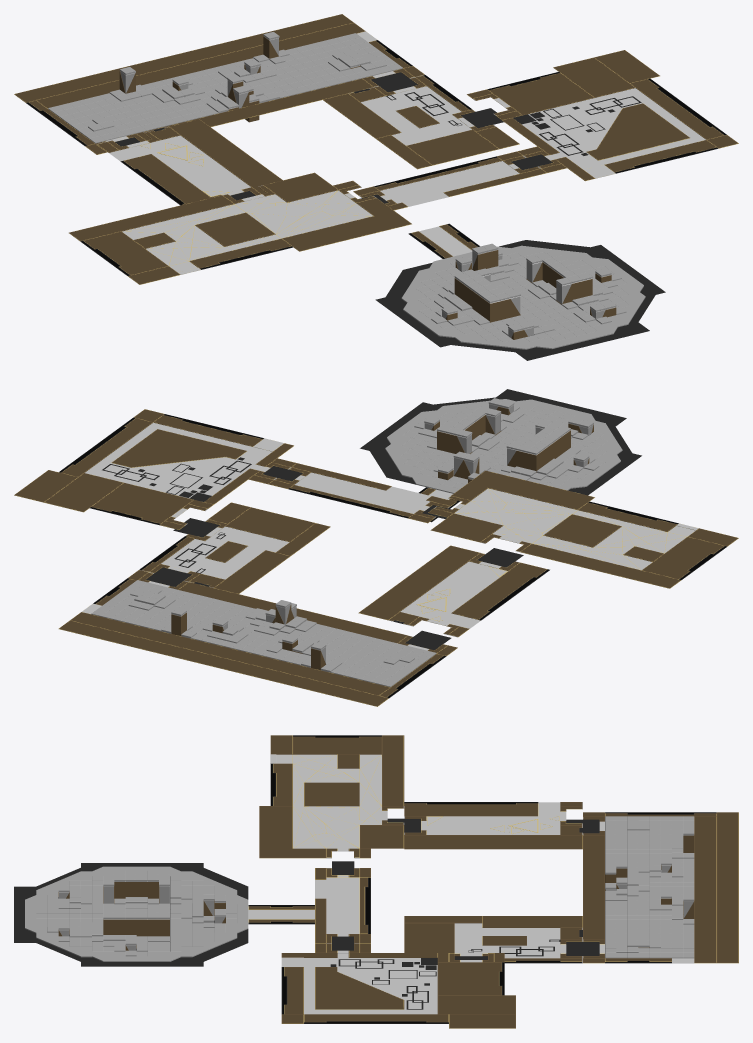
The model's file is A_level_floors_.fbx.
3 renders of one model, top to bottom at view 1: azimuth 30°, elevation 25°; view 2: azimuth 150°, elevation 25°; view 3: azimuth 270°, elevation 25°, orthographic. The views are drawn at different scales.
Parts seen in each view (by area): view 1: A_zone_03_dancefloor_plastic_, A_zone_01_dancefloor_plastic_, A_zone_02_far_left_zone_wood_01_, A_zone_02_far_right_zone_floor_wood_01_, A_zone_01_dancefloor_wood_01_, A_zone_02_far_right_zone_floor_white_marble_, A_zone_02_far_left_zone_white_marble_, A_zone_02_left_zone_wood_01_, A_zone_03_dancefloor_black_marble_, A_zone_02_right_zone_wood_01_, A_zone_02_right_zone_white_marble_, A_zone_02_left_zone_white_marble_ (+15 smaller); view 2: A_zone_03_dancefloor_plastic_, A_zone_01_dancefloor_plastic_, A_zone_02_far_left_zone_wood_01_, A_zone_01_dancefloor_wood_01_, A_zone_02_far_right_zone_floor_wood_01_, A_zone_02_far_right_zone_floor_white_marble_, A_zone_02_far_left_zone_white_marble_, A_zone_02_left_zone_wood_01_, A_zone_02_right_zone_wood_01_, A_zone_03_dancefloor_black_marble_, A_zone_02_right_zone_white_marble_, A_zone_02_left_zone_white_marble_ (+17 smaller); view 3: A_zone_03_dancefloor_plastic_, A_zone_01_dancefloor_plastic_, A_zone_02_far_left_zone_wood_01_, A_zone_01_dancefloor_wood_01_, A_zone_02_far_right_zone_floor_wood_01_, A_zone_02_far_right_zone_floor_white_marble_, A_zone_02_far_left_zone_white_marble_, A_zone_02_right_zone_wood_01_, A_zone_03_dancefloor_black_marble_, A_zone_02_left_zone_wood_01_, A_zone_02_right_zone_white_marble_, A_zone_02_left_zone_white_marble_ (+15 smaller).
Boxes of the visible parts, x1,y1,x2,y2 form: A_zone_03_dancefloor_plastic_: [401, 243, 645, 349]; A_zone_01_dancefloor_plastic_: [48, 32, 402, 143]; A_zone_02_far_left_zone_wood_01_: [468, 50, 737, 180]; A_zone_02_far_right_zone_floor_wood_01_: [69, 173, 410, 284]; A_zone_01_dancefloor_wood_01_: [15, 14, 423, 154]; A_zone_02_far_right_zone_floor_white_marble_: [122, 190, 372, 274]; A_zone_02_far_left_zone_white_marble_: [494, 88, 705, 178]; A_zone_02_left_zone_wood_01_: [323, 76, 518, 168]; A_zone_03_dancefloor_black_marble_: [375, 223, 665, 360]; A_zone_02_right_zone_wood_01_: [98, 119, 282, 204]; A_zone_02_right_zone_white_marble_: [109, 135, 250, 196]; A_zone_02_left_zone_white_marble_: [361, 86, 474, 145]; A_zone_03_dancefloor_plastic_: [385, 398, 622, 493]; A_zone_01_dancefloor_plastic_: [91, 580, 436, 687]; A_zone_02_far_left_zone_wood_01_: [15, 409, 295, 529]; A_zone_01_dancefloor_wood_01_: [59, 570, 456, 706]; A_zone_02_far_right_zone_floor_wood_01_: [429, 471, 737, 587]; A_zone_02_far_right_zone_floor_white_marble_: [454, 488, 698, 570]; A_zone_02_far_left_zone_white_marble_: [85, 422, 283, 517]; A_zone_02_left_zone_wood_01_: [143, 503, 329, 593]; A_zone_02_right_zone_wood_01_: [359, 546, 546, 636]; A_zone_03_dancefloor_black_marble_: [360, 389, 641, 522]; A_zone_02_right_zone_white_marble_: [400, 561, 508, 628]; A_zone_02_left_zone_white_marble_: [161, 526, 289, 579]; A_zone_03_dancefloor_plastic_: [25, 866, 248, 961]; A_zone_01_dancefloor_plastic_: [605, 816, 694, 958]; A_zone_02_far_left_zone_wood_01_: [282, 943, 515, 1027]; A_zone_01_dancefloor_wood_01_: [583, 812, 738, 962]; A_zone_02_far_right_zone_floor_wood_01_: [260, 735, 403, 857]; A_zone_02_far_right_zone_floor_white_marble_: [270, 754, 387, 851]; A_zone_02_far_left_zone_white_marble_: [281, 950, 482, 1014]; A_zone_02_right_zone_wood_01_: [405, 802, 582, 848]; A_zone_03_dancefloor_black_marble_: [14, 863, 314, 966]; A_zone_02_left_zone_wood_01_: [405, 916, 582, 961]; A_zone_02_right_zone_white_marble_: [421, 802, 566, 834]; A_zone_02_left_zone_white_marble_: [454, 923, 566, 958].
Size of the model in its own units: 12000 by 940 by 13000.
